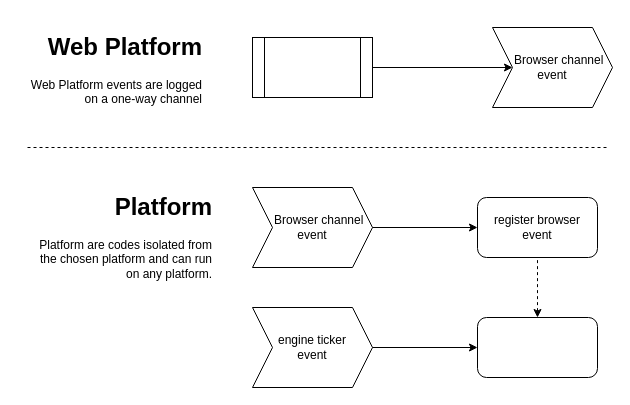
The diagram is 630 pixels wide and 405 high, and some of its shapes have lost their labels. The centre of each missing label's shape, as x and y in pixels:
"Browser event" goes at (x=312, y=67).
"system event" goes at (x=537, y=347).
